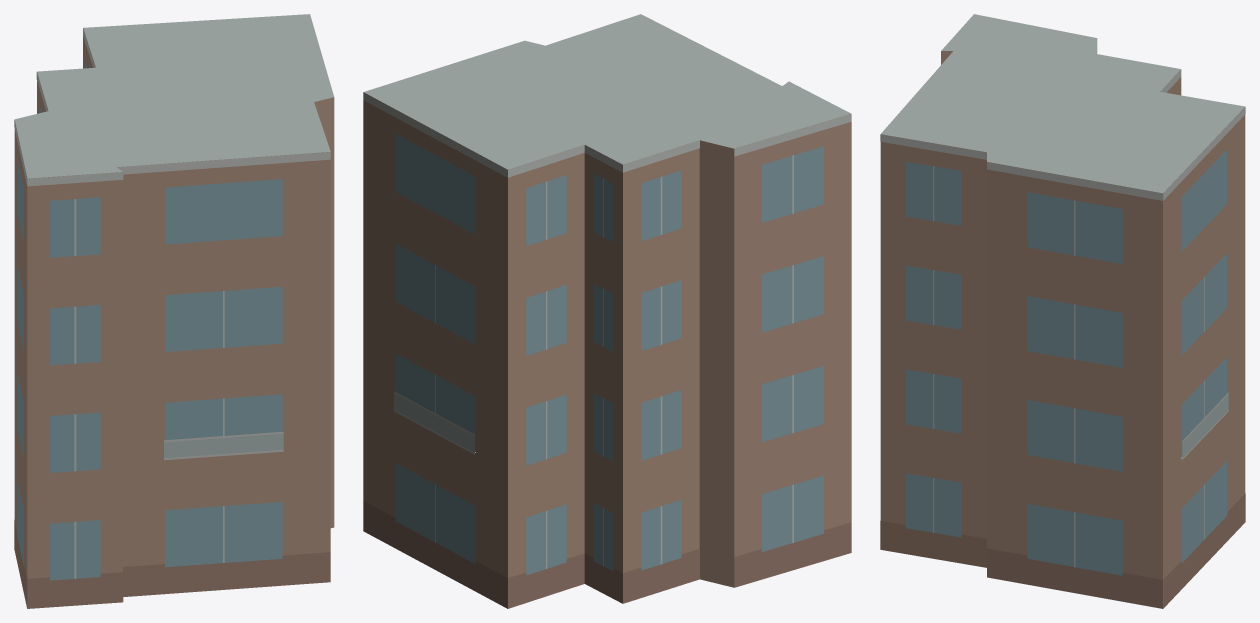
File: survey-upis-33024066.glb
The picture shows the model from 3 angles, left to right: view 1: azimuth 30°, elevation 25°; view 2: azimuth 150°, elevation 25°; view 3: azimuth 270°, elevation 25°; orthographic projection. The views are drawn at different scales.
Visible parts, largest first — view 1: survey-upis-33024066.tmp; view 2: survey-upis-33024066.tmp; view 3: survey-upis-33024066.tmp.
Boxes of the visible parts, x1,y1,x2,y2 form: survey-upis-33024066.tmp: [14, 14, 334, 608]; survey-upis-33024066.tmp: [363, 14, 851, 608]; survey-upis-33024066.tmp: [880, 14, 1245, 608].
Bounding box in the file's own units: 12.37 × 13.35 × 10.64.
